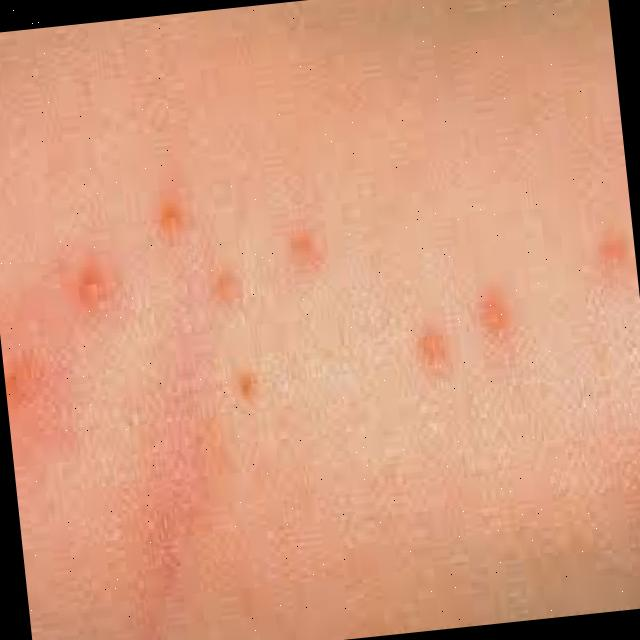tahta-kurusu: (190, 333, 290, 466), (389, 287, 489, 406), (475, 248, 547, 368), (137, 179, 217, 274), (287, 176, 346, 290), (1, 321, 50, 438), (579, 207, 628, 316), (204, 244, 264, 319), (69, 245, 108, 355)
